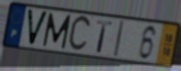6: (138, 24, 157, 61)
C: (67, 14, 93, 54)
I: (113, 20, 126, 59)
M: (41, 12, 73, 51)
T: (95, 19, 114, 54)
V: (26, 7, 50, 48)
